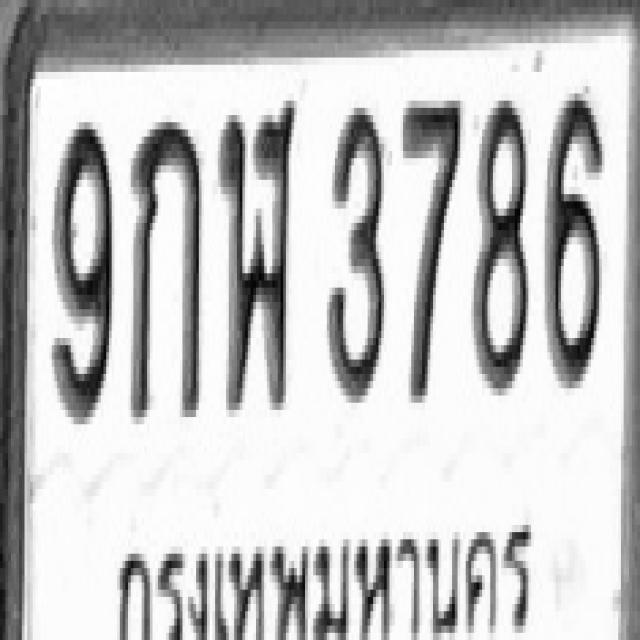10GorGai: (128, 115, 202, 417)
3: (326, 97, 386, 399)
51LorChula: (219, 93, 296, 410)
6: (545, 90, 602, 385)
7: (400, 94, 460, 402)
8: (471, 94, 528, 388)
9: (52, 118, 112, 420)
Bangkok: (108, 510, 539, 640)
